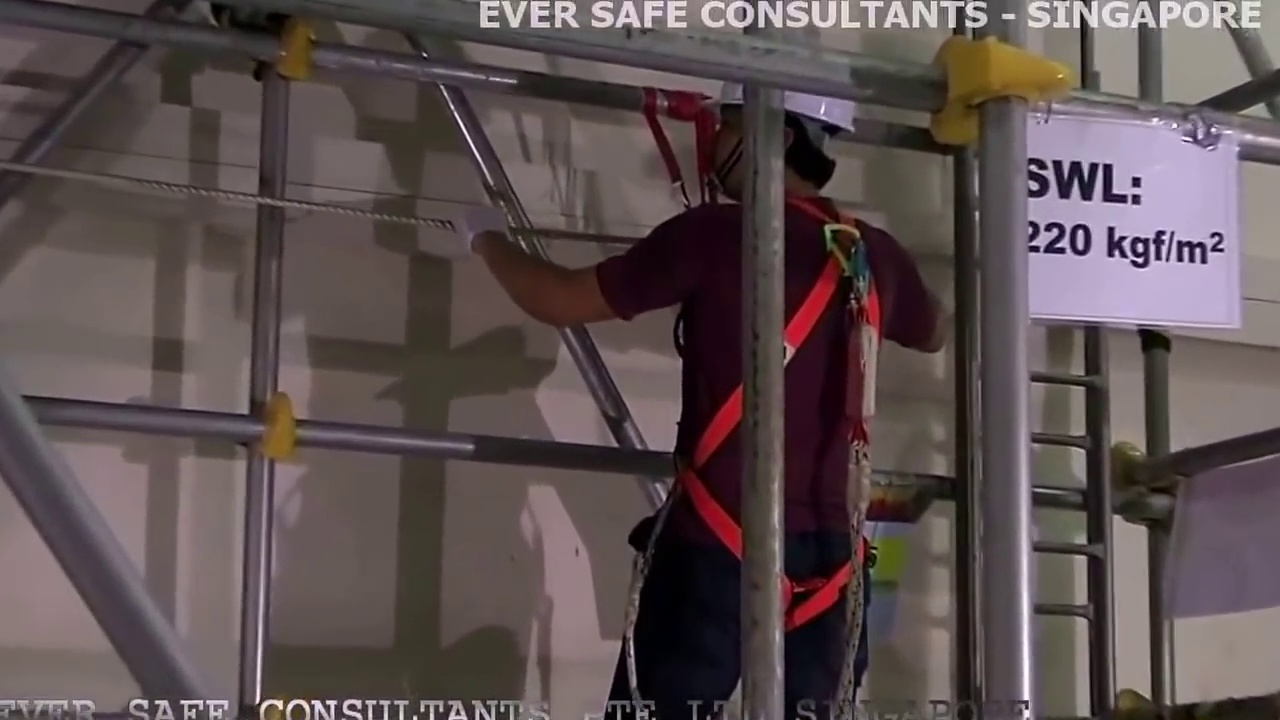harness: (708, 203, 876, 611)
helmet: (701, 71, 861, 128)
